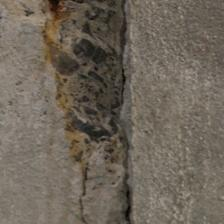Crack: (91, 38, 157, 219), (0, 0, 91, 64)
